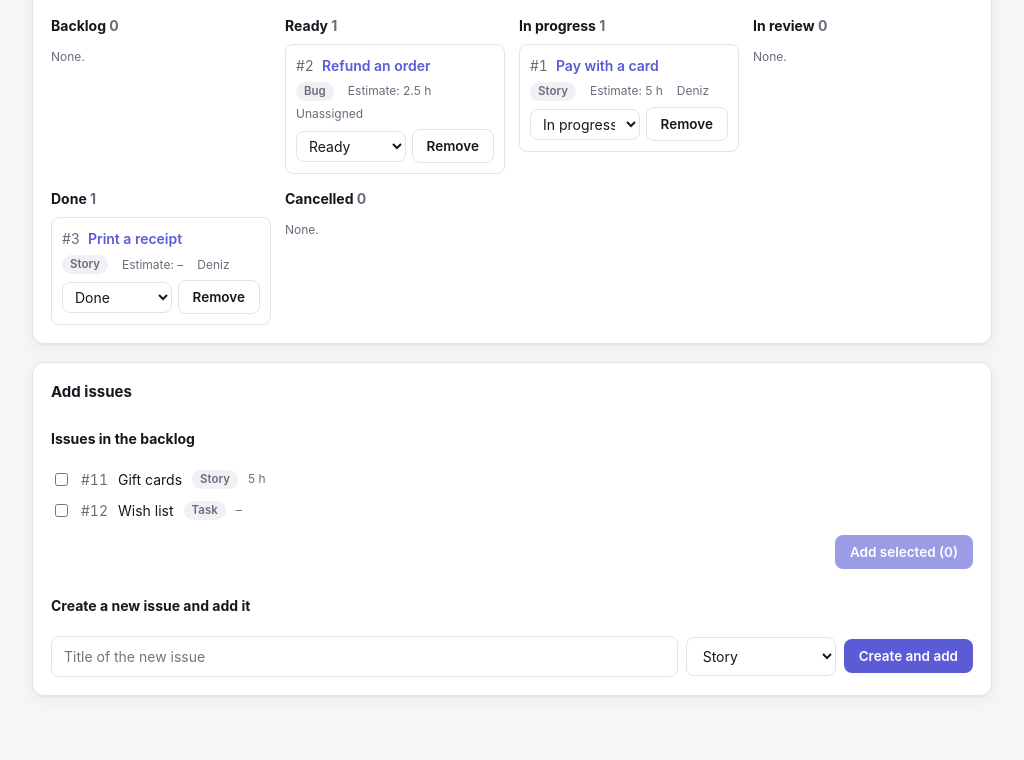
Scenario: the sprint page: creating an issue and adding it at once › shows the refusal when the issue cannot be created
(page scrolled)
Type "Coupons" into the field labelled "Title of the new issue".
click(364, 656); type("Coupons")  # box [51,636,678,677]
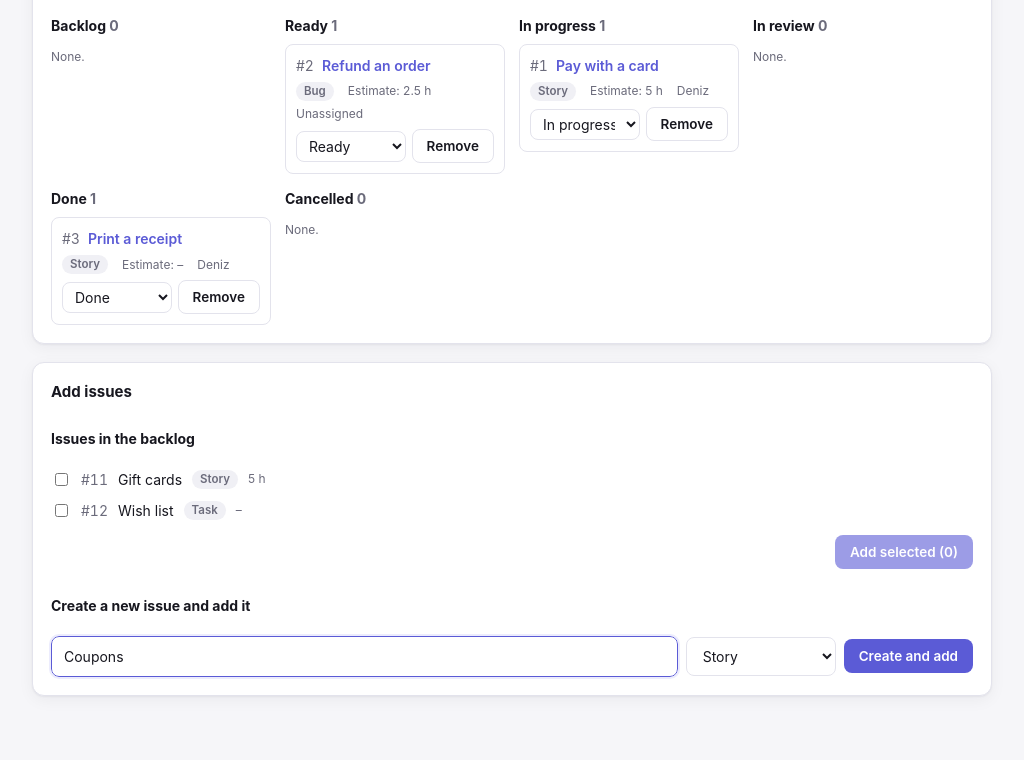
Click the button "Create and add".
click(908, 656)  # box [844,639,973,673]
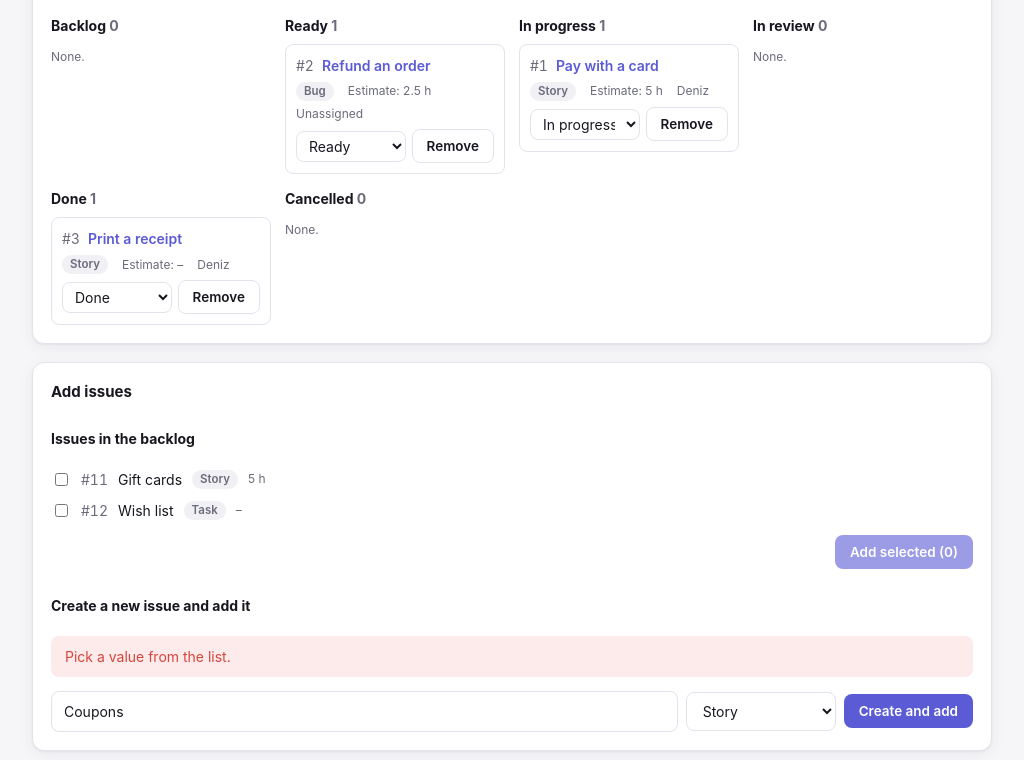
expect the text "Pick a value from the list." is shown: met, box [51,636,973,677]
